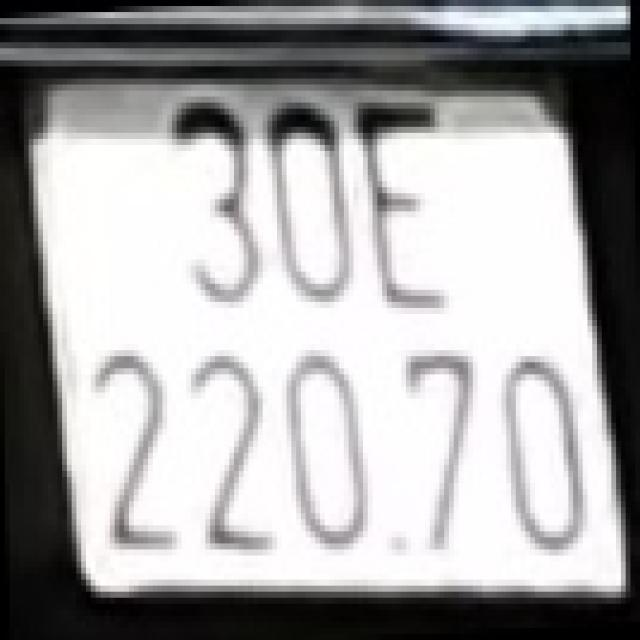0: (282, 344, 372, 550), (497, 350, 587, 556), (268, 97, 354, 308)
2: (86, 344, 186, 556), (186, 350, 282, 556)
3: (162, 97, 263, 308)
7: (397, 344, 478, 556)
E: (358, 91, 459, 314)
